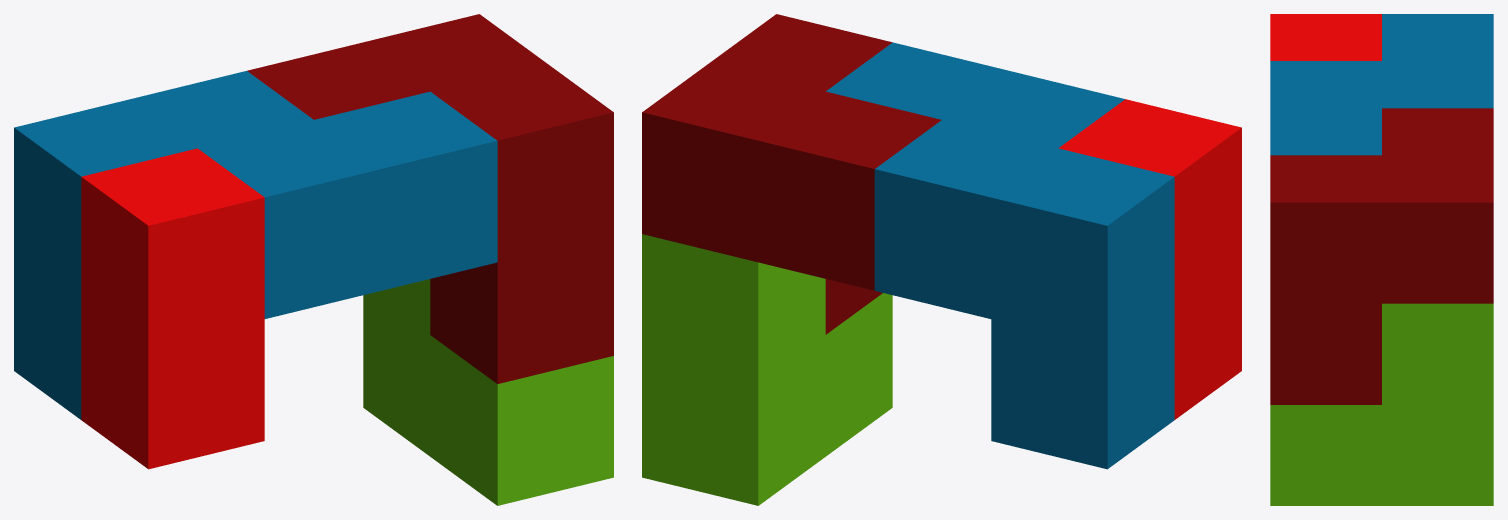
The picture shows the model from 3 angles, left to right: view 1: azimuth 30°, elevation 25°; view 2: azimuth 150°, elevation 25°; view 3: azimuth 270°, elevation 25°; orthographic projection. The views are drawn at different scales.
Parts seen in each view (by area): view 1: mergedBlocks(Clone); view 2: mergedBlocks(Clone); view 3: mergedBlocks(Clone).
Part boxes in pixels (left/top/right/bottom): mergedBlocks(Clone): left=14, top=14, right=613, bottom=505; mergedBlocks(Clone): left=642, top=14, right=1241, bottom=505; mergedBlocks(Clone): left=1270, top=14, right=1493, bottom=505.
Bounding box in the file's own units: 4 × 3 × 2.
4 materials, 4 textured.
